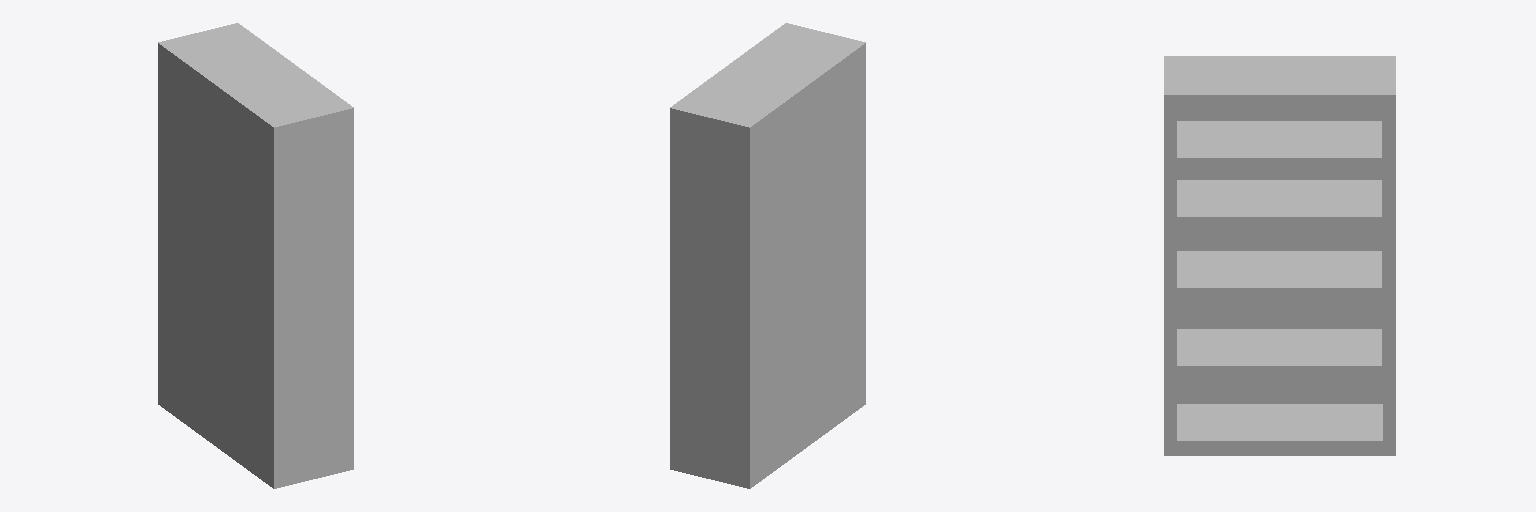
The model's file is BookcaseBody.obj.
3 views of the same model, side by side, from view 1: azimuth 30°, elevation 25°; view 2: azimuth 150°, elevation 25°; view 3: azimuth 270°, elevation 25° (orthographic).
Visible parts, largest first — view 1: BookcaseBody; view 2: BookcaseBody; view 3: BookcaseBody.
Part boxes in pixels (x1,y1,x2,y2): BookcaseBody: (158,23,353,488); BookcaseBody: (670,23,865,488); BookcaseBody: (1164,56,1395,455).
Size of the model in its own units: 0.7 by 3 by 1.75.